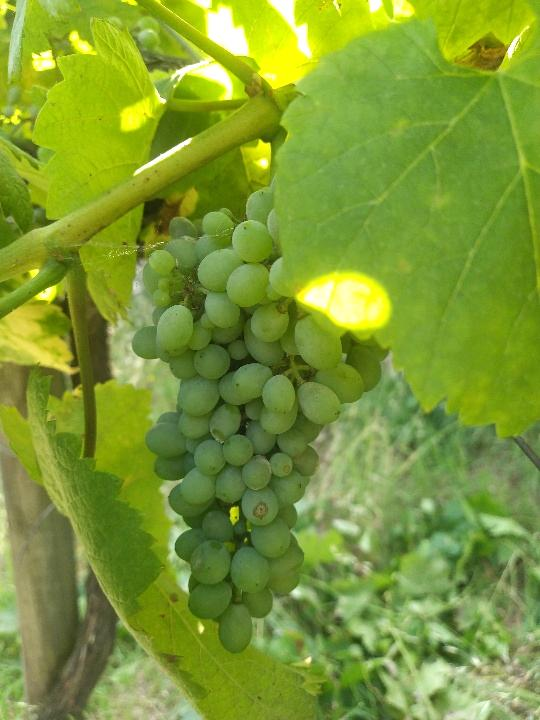grape: (127, 173, 389, 661)
